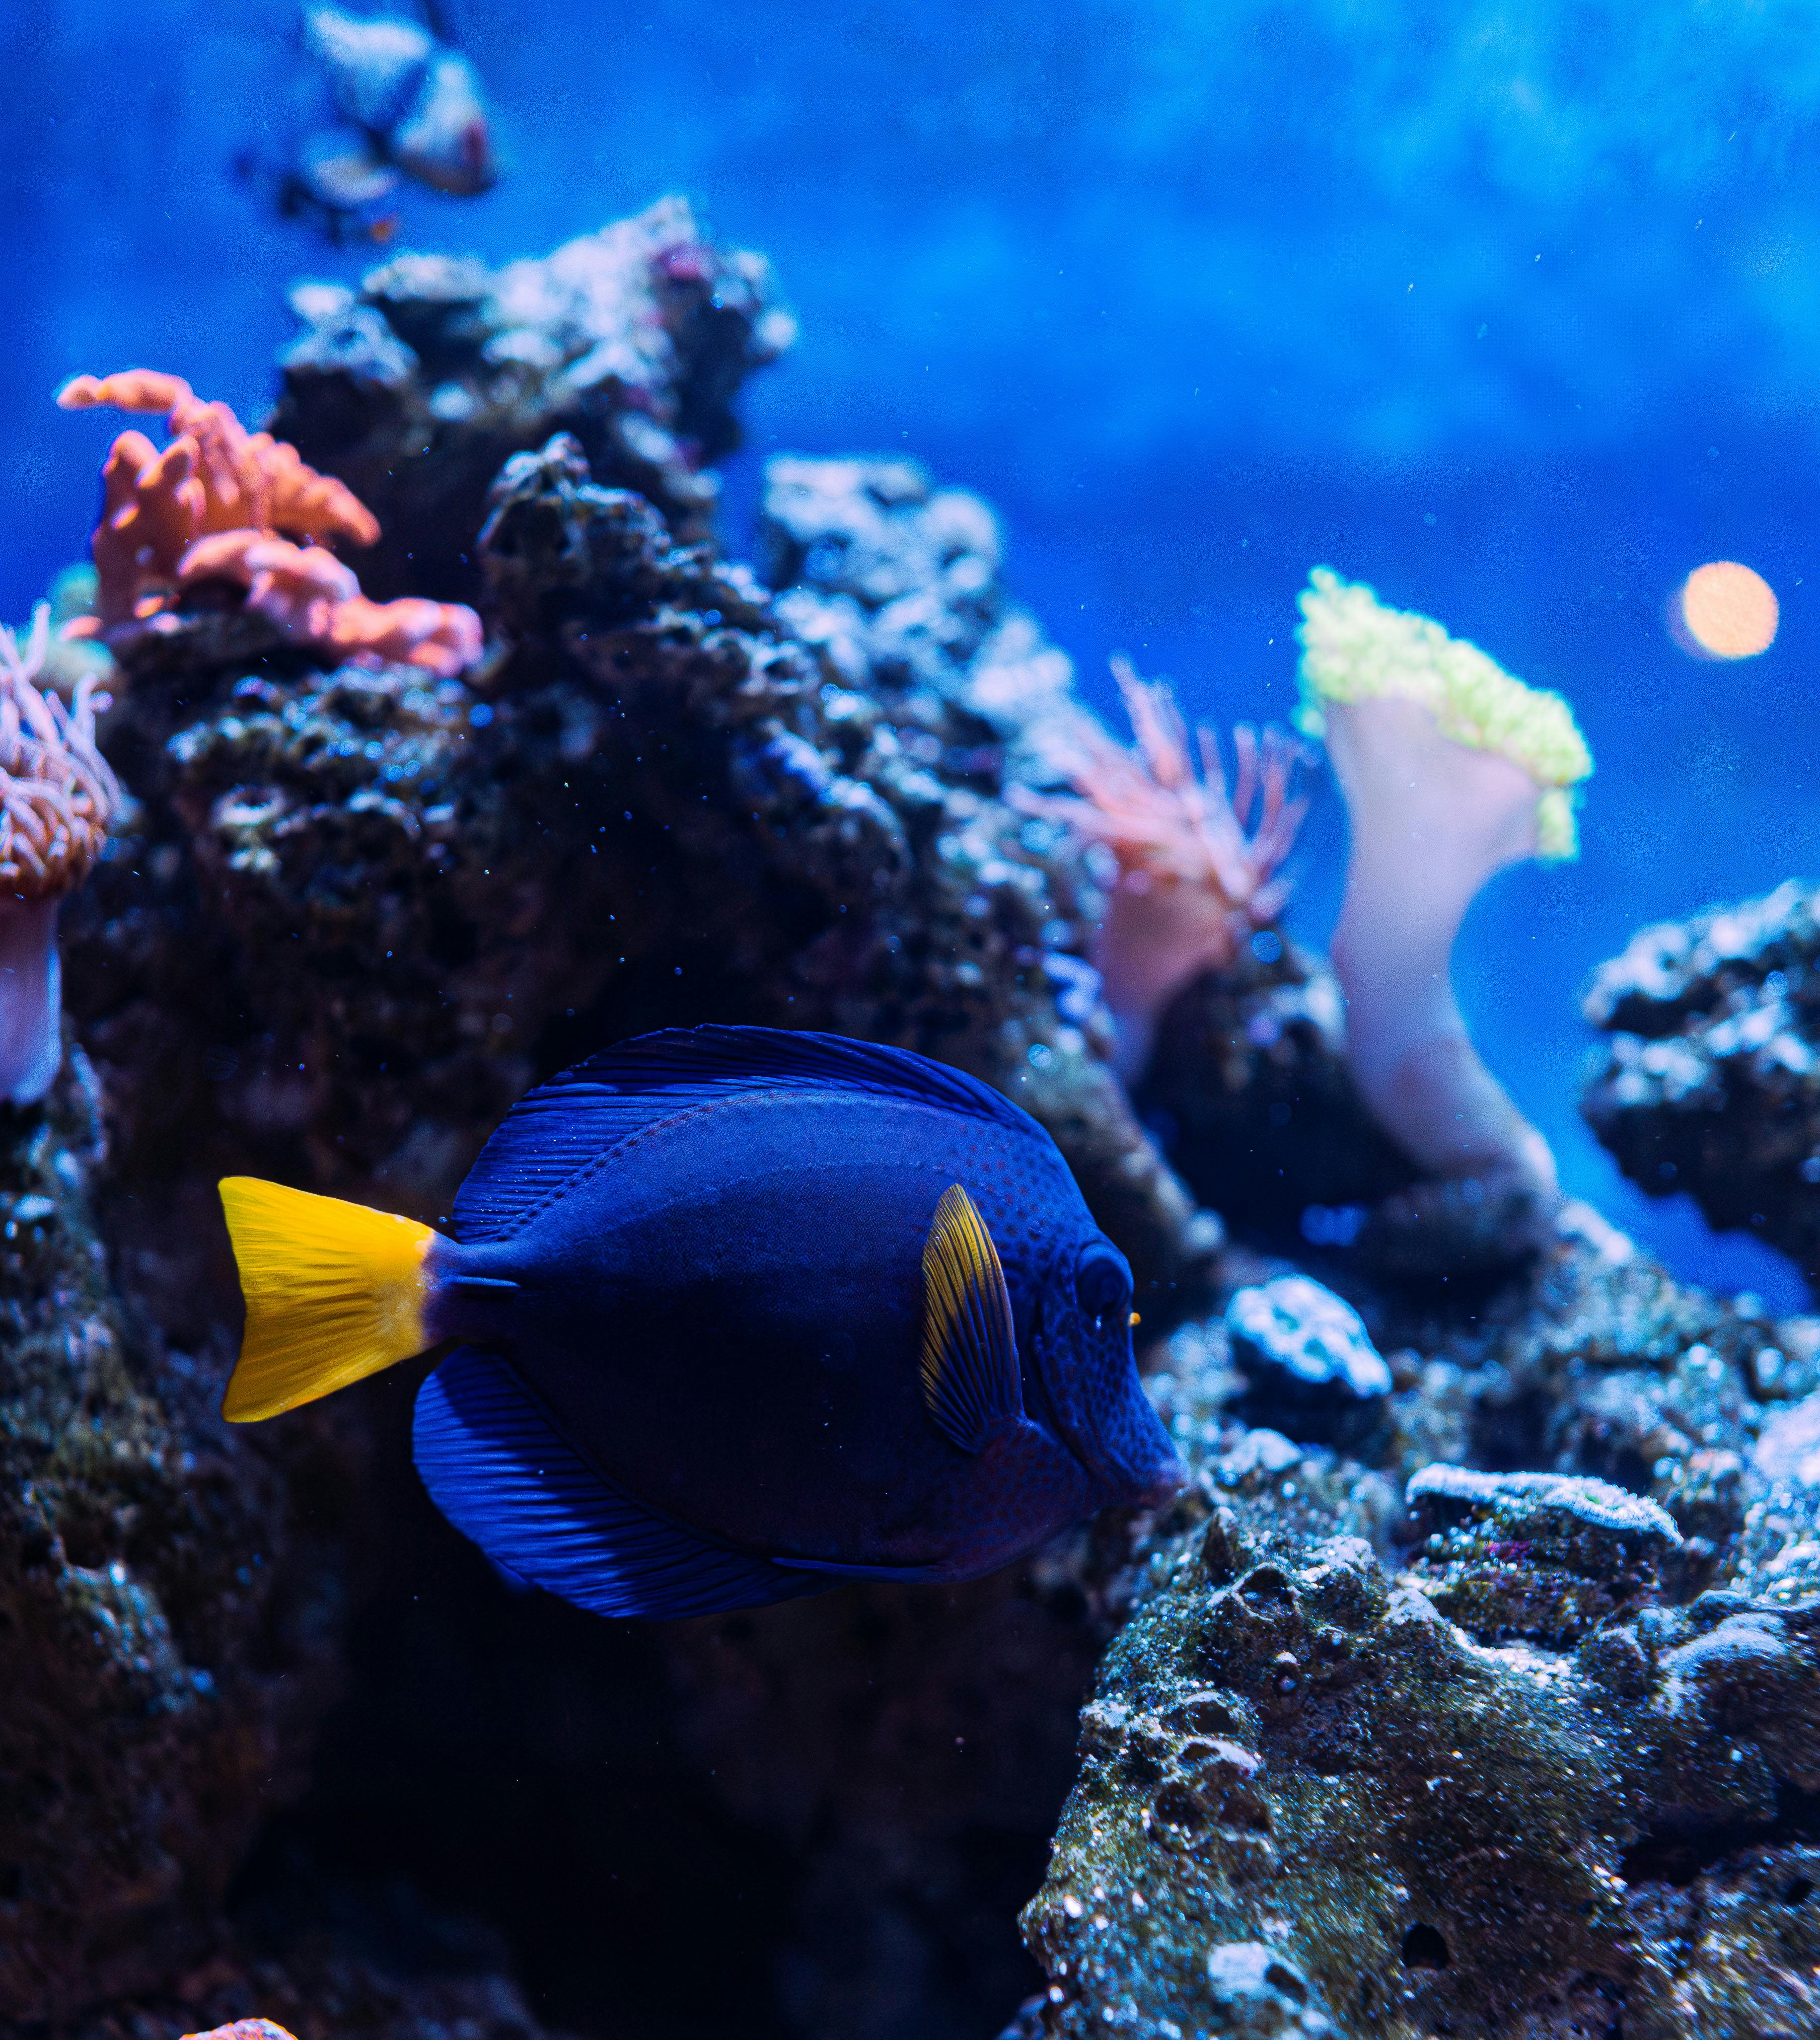fishRound: (209, 1016, 1193, 1634)
